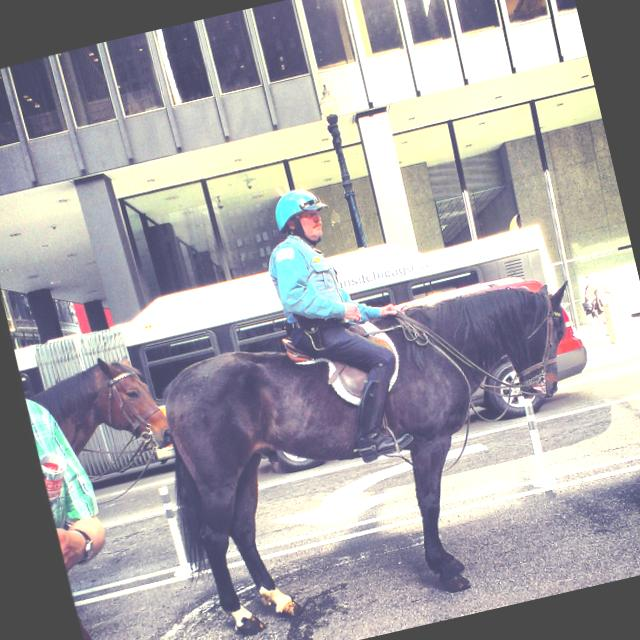Vehicle: (9, 200, 598, 498), (438, 270, 596, 427)
